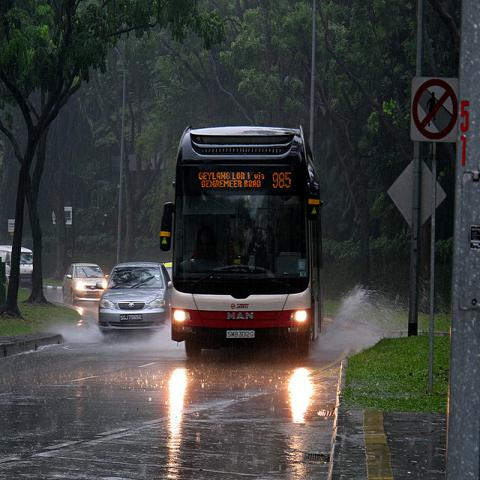bus: (152, 120, 334, 364)
car: (99, 261, 173, 337), (62, 263, 106, 304), (1, 244, 34, 288), (164, 262, 172, 279)
